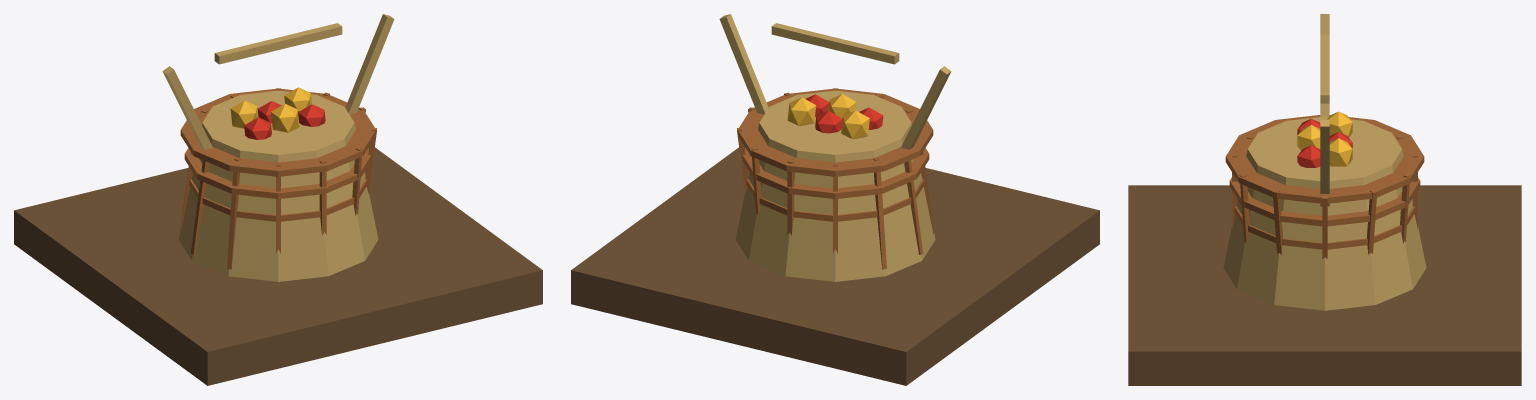
File: bamboo_basket.glb
3 views of the same model, side by side, from view 1: azimuth 30°, elevation 25°; view 2: azimuth 150°, elevation 25°; view 3: azimuth 270°, elevation 25° (orthographic).
Parts seen in each view (by area): view 1: TerrainBase, BasketBody, BasketBand.004, BasketBand.003, HandleTop, HandleRight, BasketBand.002, HandleLeft, BasketProduce.001, BasketWeave.007, BasketProduce.003, BasketWeave.006 (+3 smaller); view 2: TerrainBase, BasketBody, BasketBand.004, BasketBand.003, HandleTop, HandleRight, BasketBand.002, HandleLeft, BasketProduce.005, BasketProduce.003, BasketWeave.005, BasketWeave.006 (+2 smaller); view 3: TerrainBase, BasketBody, BasketBand.004, BasketBand.003, BasketBand.002, HandleRight, HandleTop, BasketProduce.005, BasketProduce.003, BasketProduce.001, BasketProduce.002, BasketWeave.001 (+5 smaller).
Boxes of the visible parts, x1,y1,x2,y2 form: TerrainBase: (14,147,542,385); BasketBody: (178,90,378,281); BasketBand.004: (180,88,375,176); BasketBand.003: (184,148,371,199); HandleTop: (214,23,342,64); HandleRight: (345,14,394,114); BasketBand.002: (189,174,367,221); HandleLeft: (162,66,212,149); BasketProduce.001: (271,103,299,132); BasketWeave.007: (227,158,240,269); BasketProduce.003: (230,100,258,128); BasketWeave.006: (191,160,209,254); TerrainBase: (571,147,1099,385); BasketBody: (735,90,935,281); BasketBand.004: (738,88,933,176); BasketBand.003: (742,148,929,199); HandleTop: (771,23,899,64); HandleRight: (719,14,768,114); BasketBand.002: (746,174,924,221); HandleLeft: (901,66,951,149); BasketProduce.005: (787,97,816,126); BasketProduce.003: (841,110,869,139); BasketWeave.005: (873,158,886,269); BasketWeave.006: (904,160,922,254); TerrainBase: (1128,185,1521,385); BasketBody: (1223,116,1426,310); BasketBand.004: (1225,115,1424,203); BasketBand.003: (1229,177,1420,226); BasketBand.002: (1234,206,1415,249); HandleRight: (1320,119,1329,206); HandleTop: (1320,34,1329,103); BasketProduce.005: (1329,138,1352,166); BasketProduce.003: (1327,111,1352,137); BasketProduce.001: (1297,125,1320,150); BasketProduce.002: (1297,145,1320,167); BasketWeave.001: (1367,189,1377,254).
Bounding box in the file's own units: 6 × 4.01 × 6.
